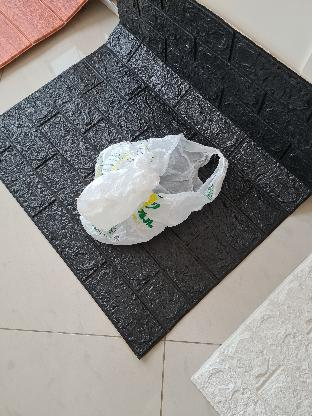Plastic Bag: (76, 132, 228, 244)
